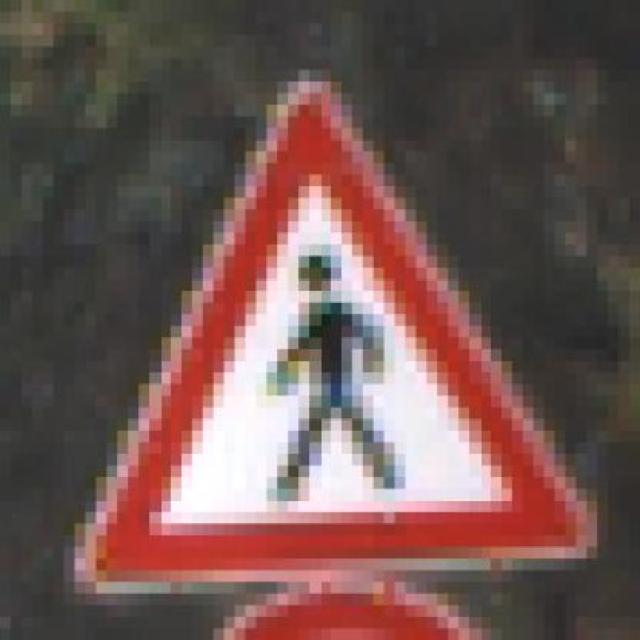Pedestrian Crossing: (53, 63, 609, 599)
